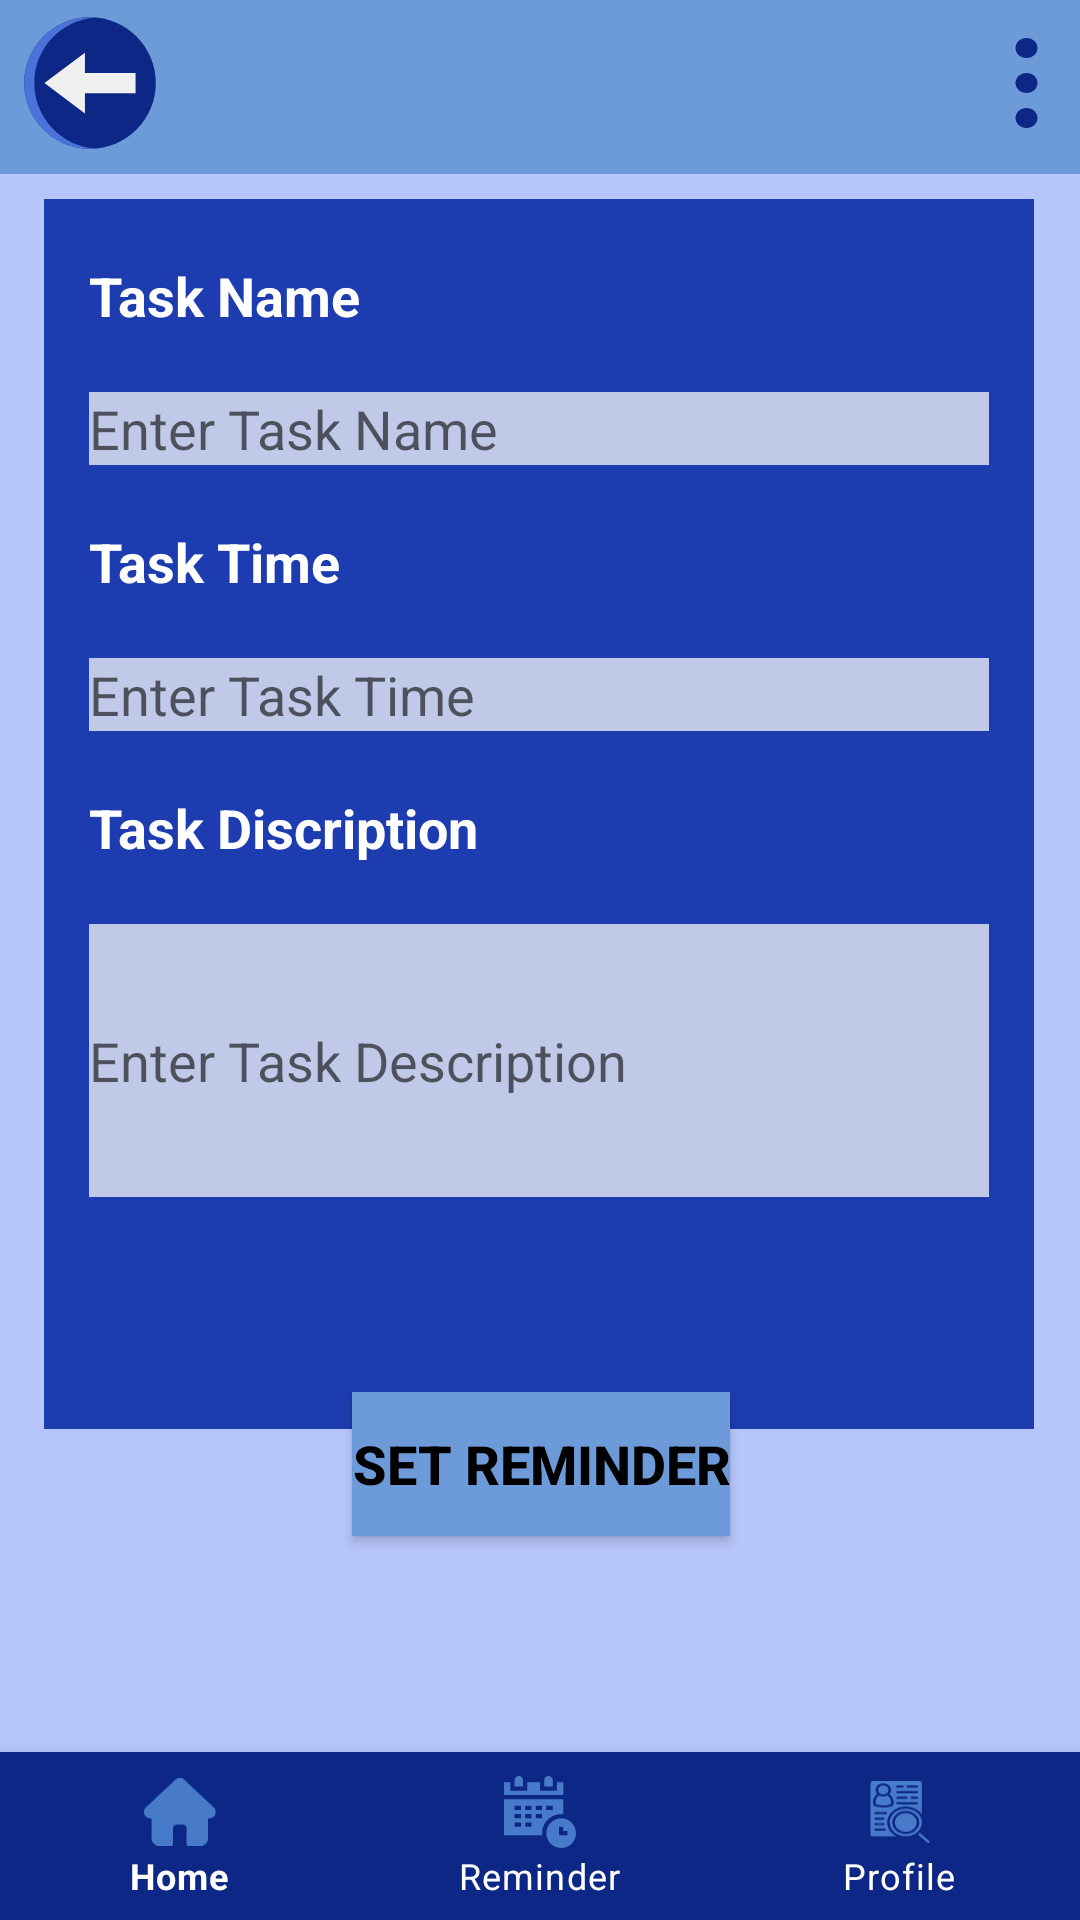

Icon click points for this 1080×1920 phone screenshot, format (x,y):
back: (90,83)
more: (1026,83)
